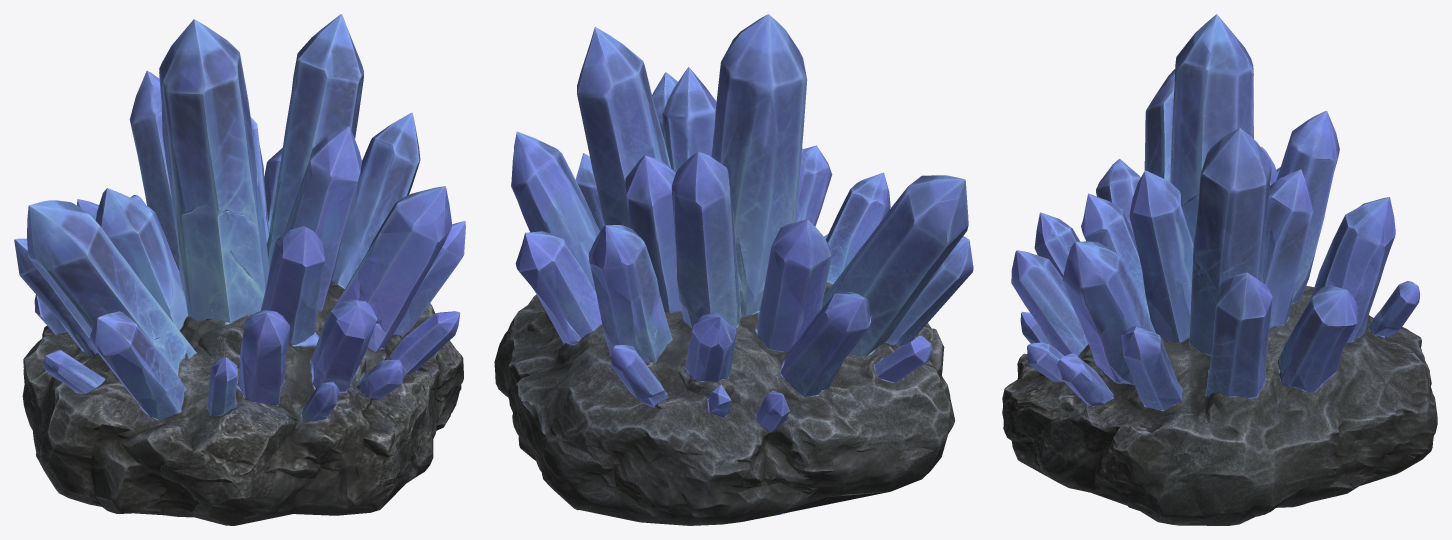
File: CristalCaverna01.glb
The picture shows the model from 3 angles, left to right: view 1: azimuth 30°, elevation 25°; view 2: azimuth 150°, elevation 25°; view 3: azimuth 270°, elevation 25°; orthographic projection. The views are drawn at different scales.
Visible parts, largest first — view 1: output_unwrapped; view 2: output_unwrapped; view 3: output_unwrapped.
Part boxes in pixels (x1,y1,x2,y2): output_unwrapped: (14, 14, 465, 525); output_unwrapped: (494, 14, 973, 525); output_unwrapped: (1002, 14, 1437, 525).
Bounding box in the file's own units: 1.9 × 1.85 × 1.77.
1 material, 1 textured.
